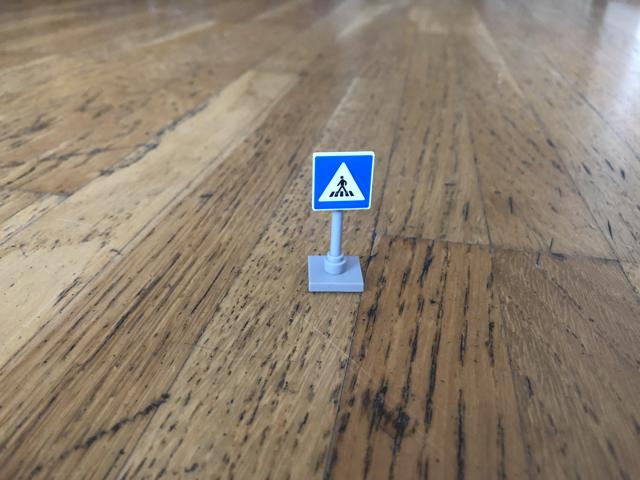fußgängerüberweg: (308, 149, 380, 213)
